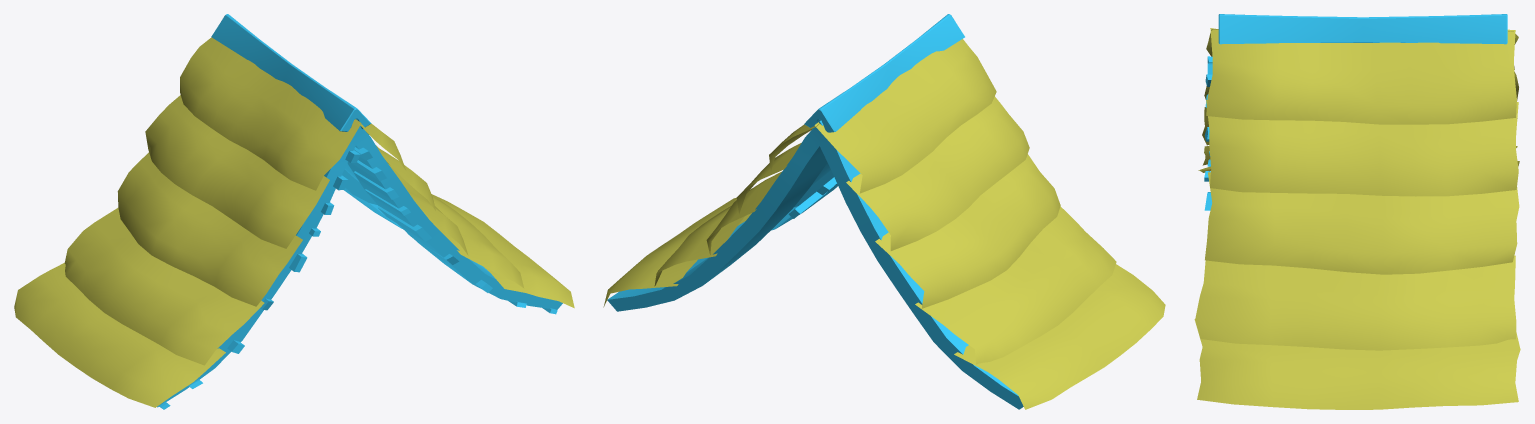
Rendered from Roof_02_Hay_wide.fbx.
3 views of the same model, side by side, from view 1: azimuth 30°, elevation 25°; view 2: azimuth 150°, elevation 25°; view 3: azimuth 270°, elevation 25° (orthographic). The views are drawn at different scales.
Parts seen in each view (by area): view 1: Roof_02_Hay_wide; view 2: Roof_02_Hay_wide; view 3: Roof_02_Hay_wide.
Part boxes in pixels (left/top/right/bottom): Roof_02_Hay_wide: left=14, top=14, right=574, bottom=409; Roof_02_Hay_wide: left=603, top=14, right=1165, bottom=409; Roof_02_Hay_wide: left=1194, top=14, right=1520, bottom=409.
Bounding box in the file's own units: 1529 × 820 × 855.
